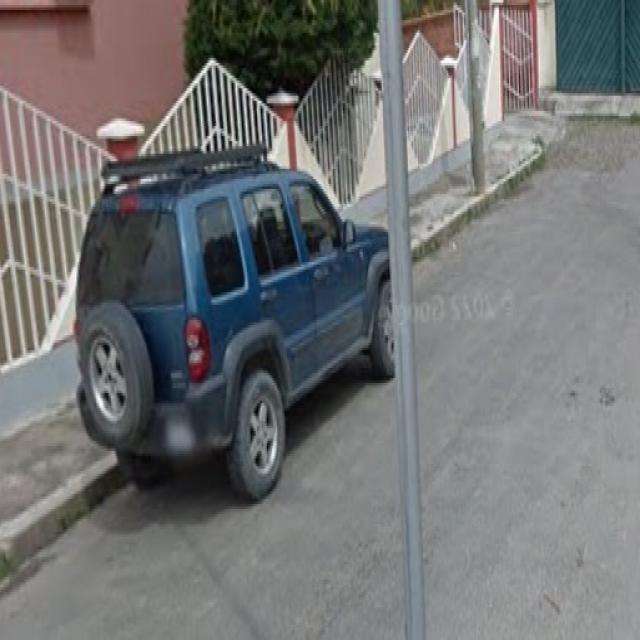car: (73, 142, 397, 503)
